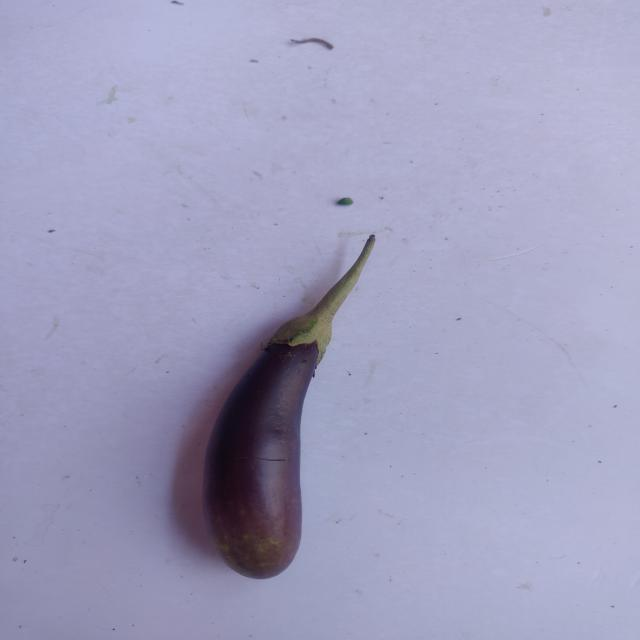Brinjal: (200, 228, 404, 586)
